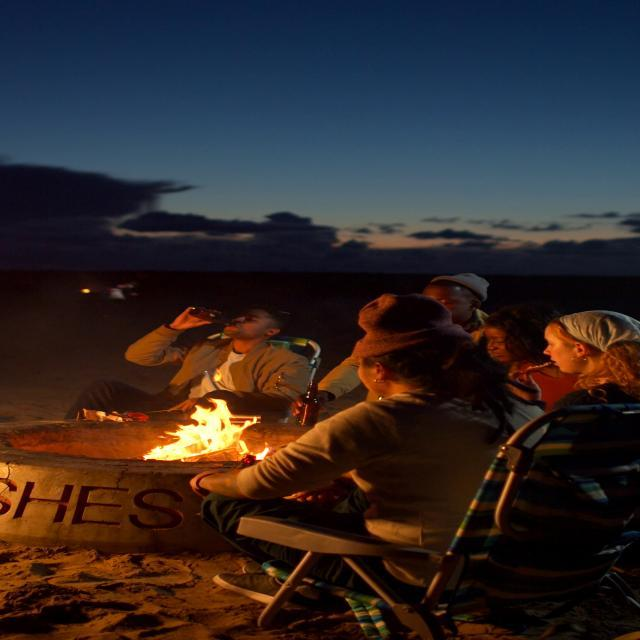Fire: (135, 396, 268, 463)
